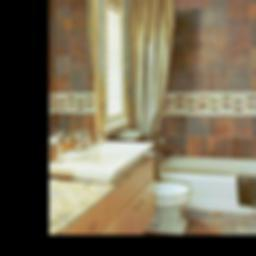Lavamanos: (51, 128, 160, 185)
Sanitario: (159, 180, 194, 230)
